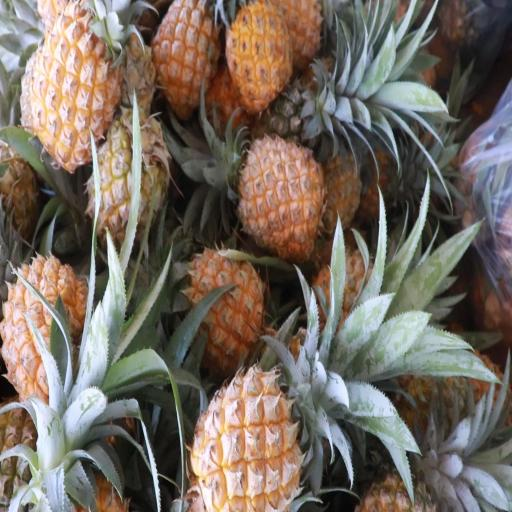------------------------------: (90, 108, 168, 237)
Pineapple - v8 v1: (196, 365, 303, 512), (25, 9, 117, 159), (5, 256, 89, 411), (235, 137, 323, 258), (186, 254, 268, 364), (150, 1, 222, 112), (228, 0, 294, 109)
